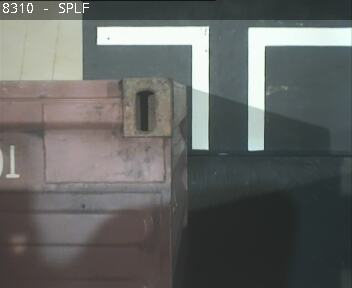groundmarker_1: (96, 25, 351, 151)
